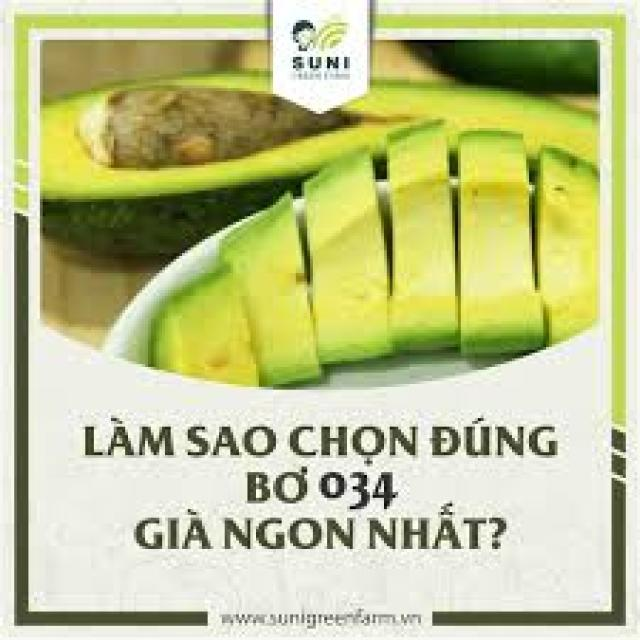Bo: (32, 76, 604, 244), (463, 118, 604, 354), (297, 143, 395, 370), (203, 190, 320, 379), (386, 113, 467, 354), (140, 276, 259, 394)
